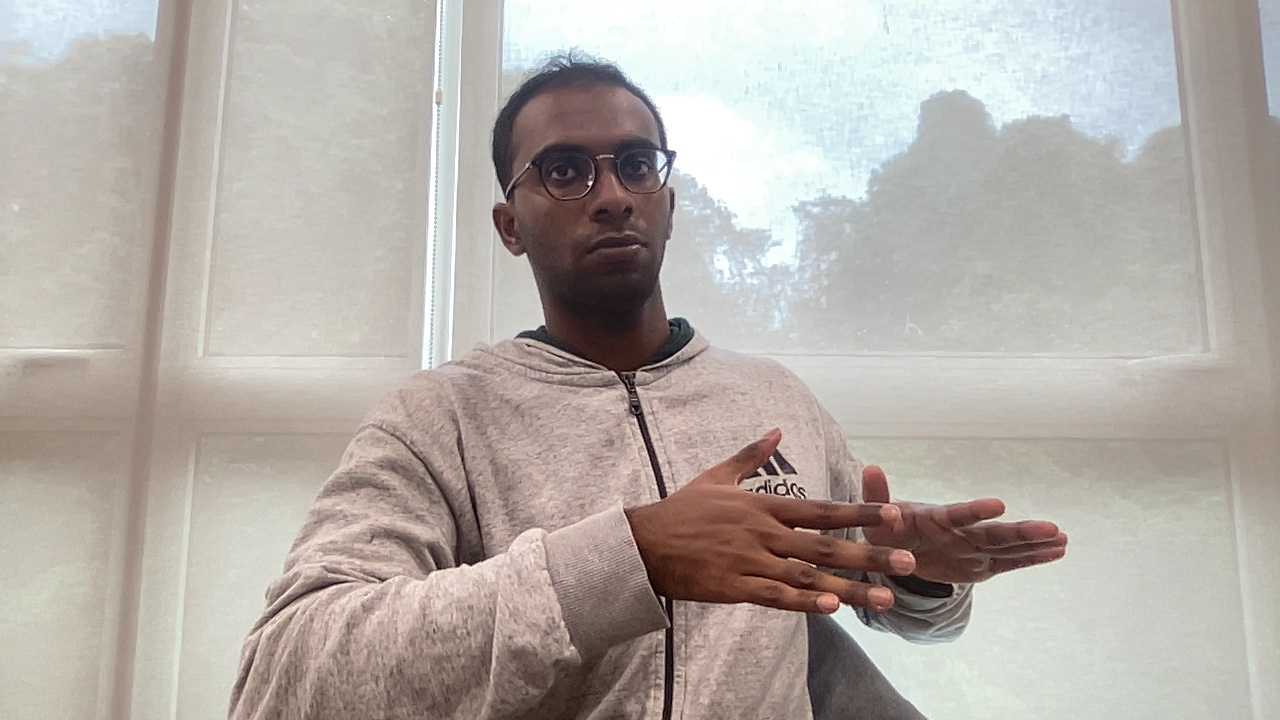finish: (635, 419, 1079, 634)
